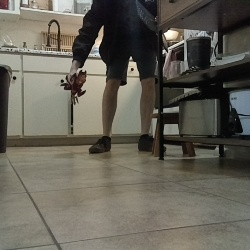sparky: (59, 69, 86, 105)
